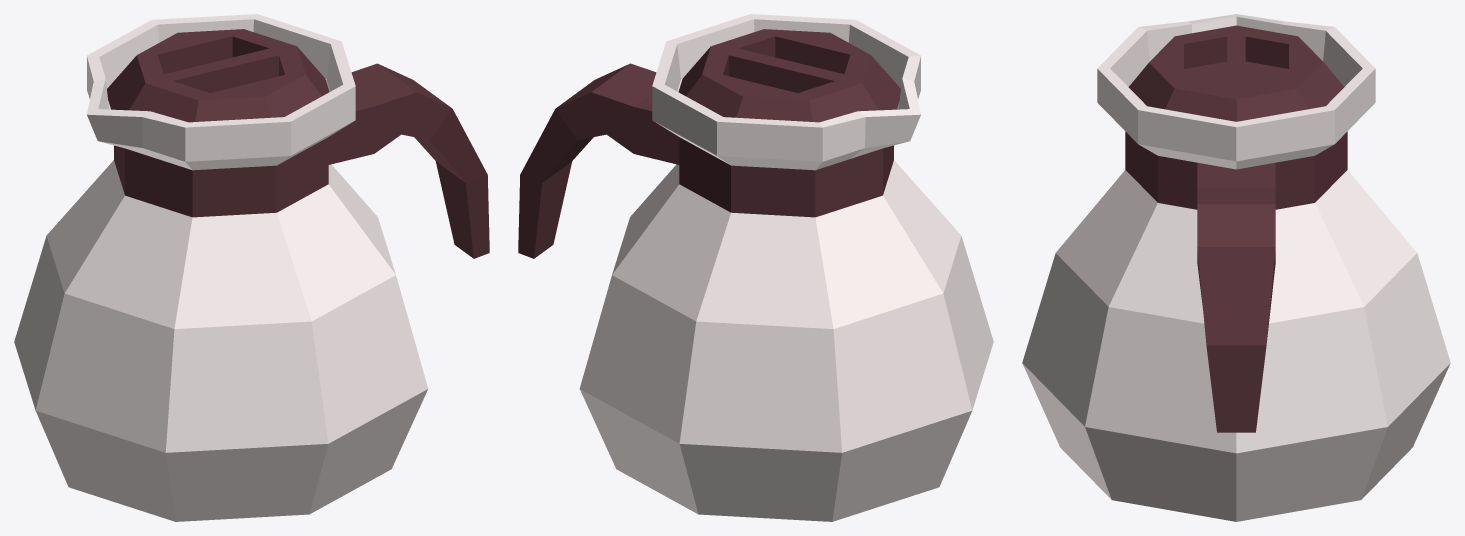
The model's file is pot-coffee-full.fbx.
3 views of the same model, side by side, from view 1: azimuth 30°, elevation 25°; view 2: azimuth 150°, elevation 25°; view 3: azimuth 270°, elevation 25° (orthographic).
Parts seen in each view (by area): view 1: pot-coffee-full; view 2: pot-coffee-full; view 3: pot-coffee-full.
Boxes of the visible parts, <box> form: pot-coffee-full: <box>14,14,489,521</box>; pot-coffee-full: <box>518,14,993,521</box>; pot-coffee-full: <box>1022,14,1450,521</box>.
Size of the model in its own units: 0.2066 by 0.1897 by 0.1726.
